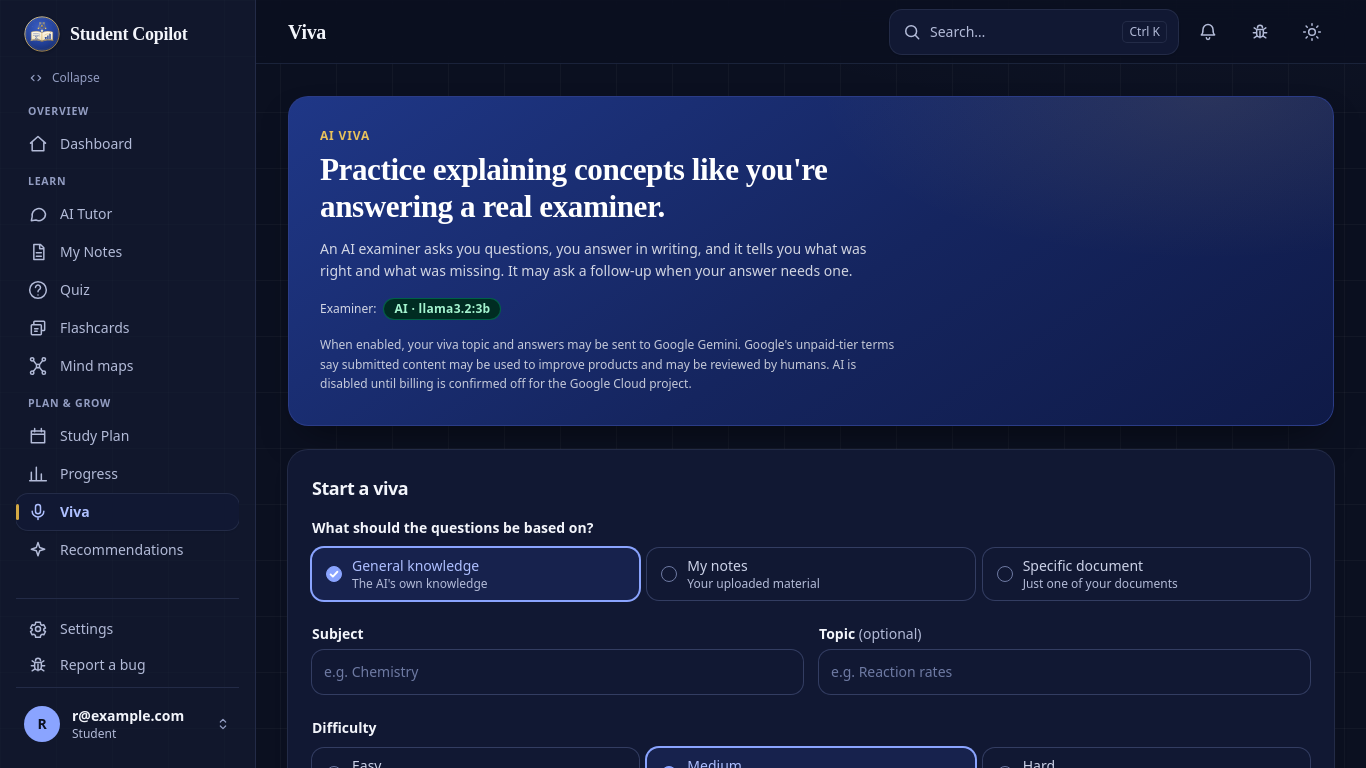
Scenario: viva sources › a viva from 'My notes' names the source and shows 'Based on: your notes' without revealing any key points
Click the radio button labelled "My notes Your uploaded material".
click(811, 574)  # box [647, 548, 975, 600]
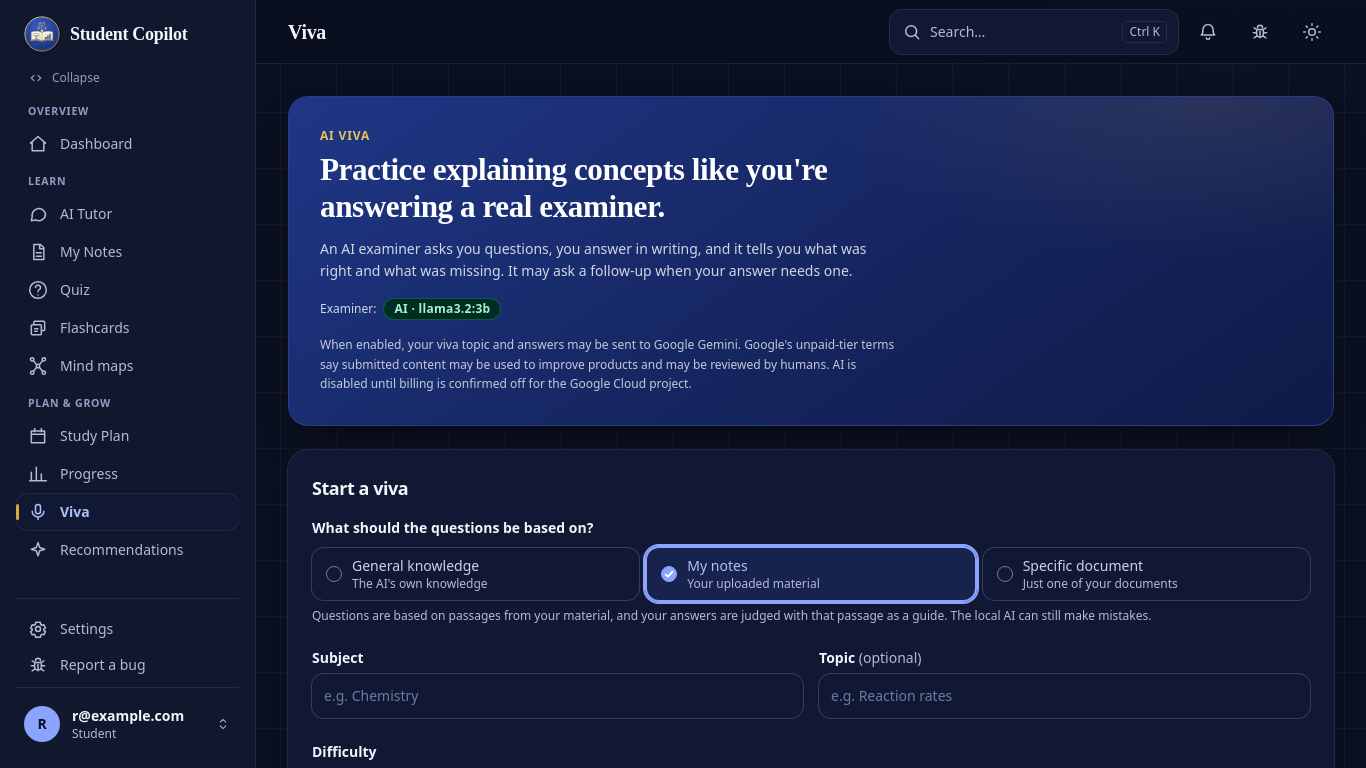
Type "Physics" into the field labelled "Subject".
click(558, 696); type("Physics")  # box [312, 674, 803, 718]
(page scrolled)
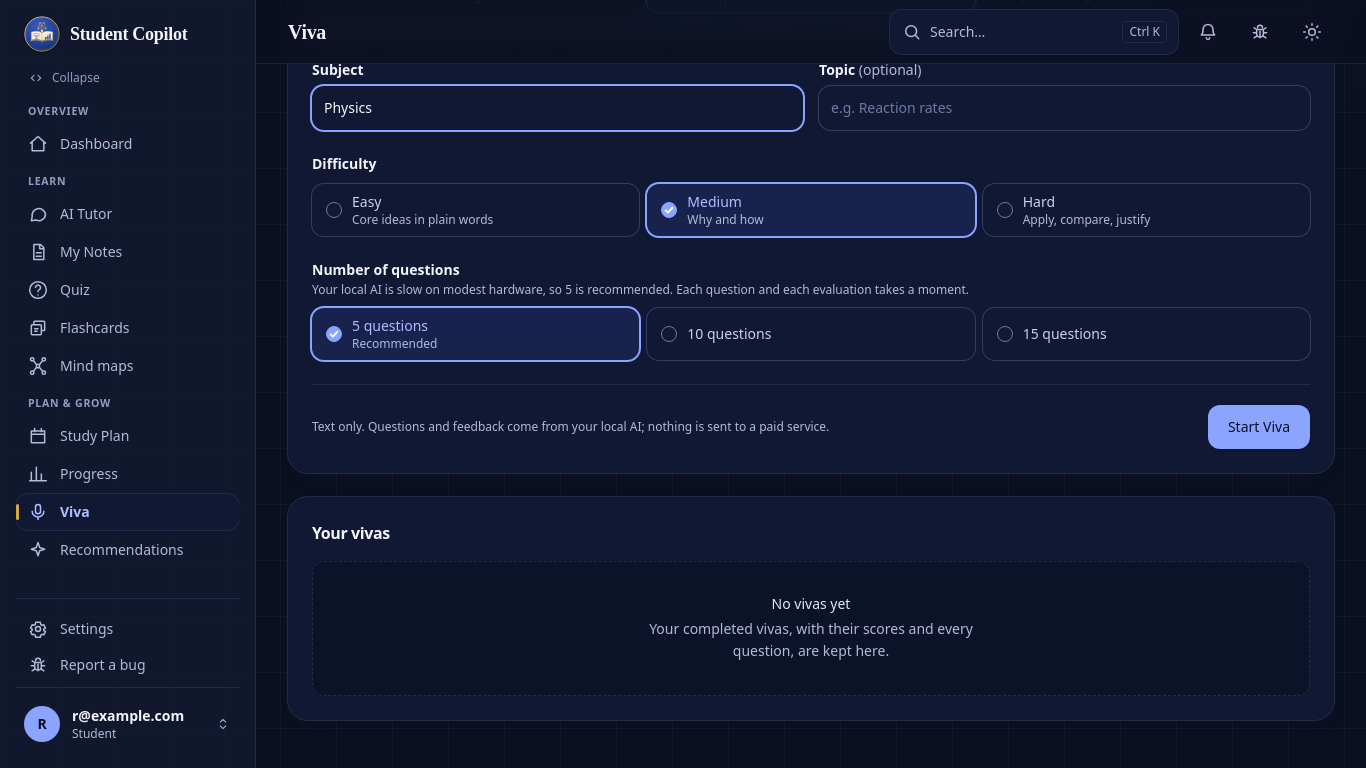
Click the button "Start Viva".
click(1259, 427)  # box [1208, 405, 1310, 449]
(page scrolled)
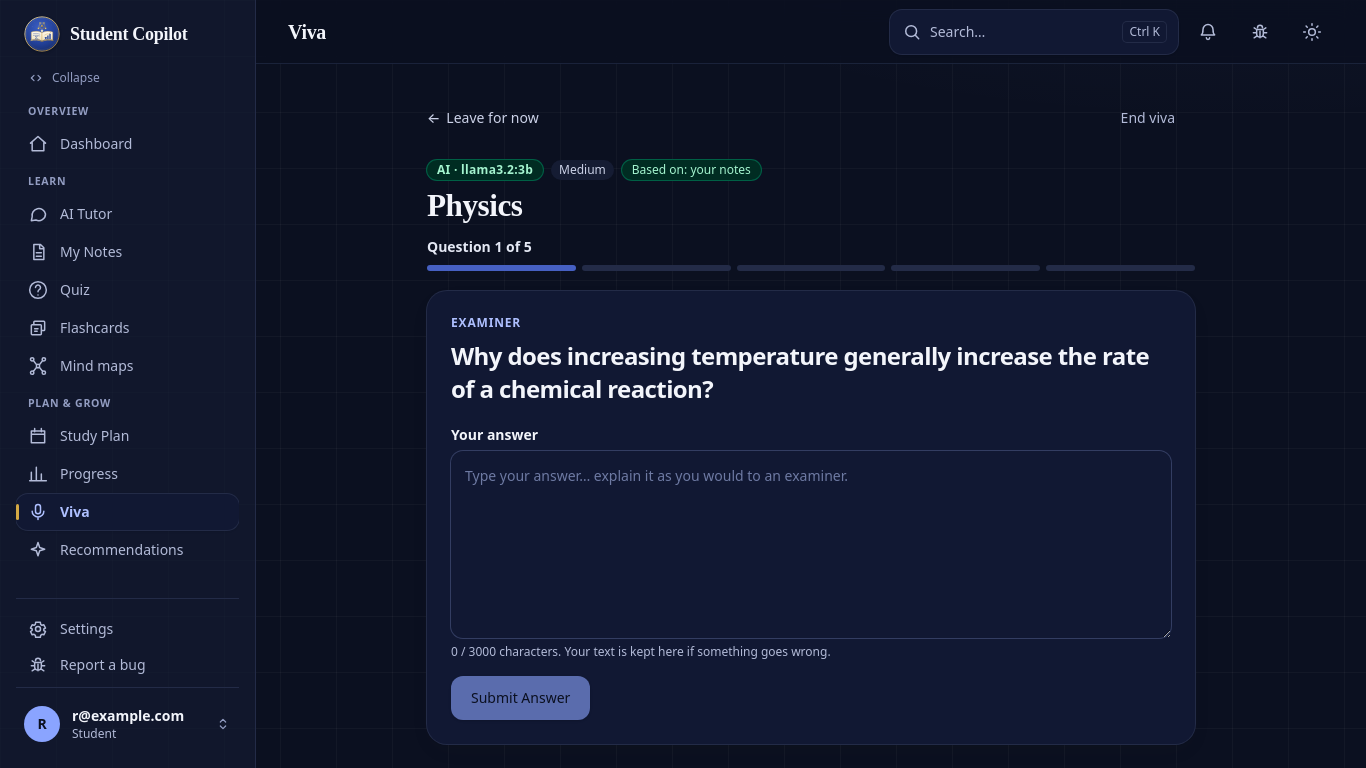
Result: the text "Question 1 of 5" is shown at [427, 237, 532, 256]
Result: the text "Based on: your notes" is shown at [622, 160, 761, 180]
